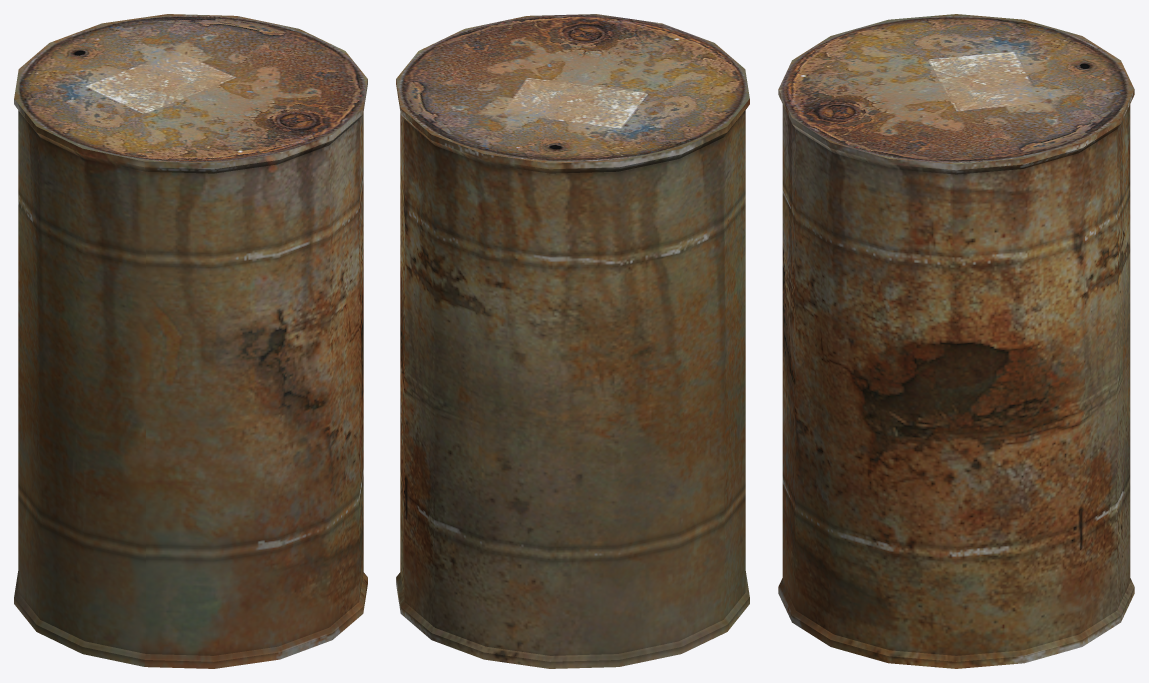
The model's file is Barrel.FBX.
The picture shows the model from 3 angles, left to right: view 1: azimuth 30°, elevation 25°; view 2: azimuth 150°, elevation 25°; view 3: azimuth 270°, elevation 25°; orthographic projection.
Visible parts, largest first — view 1: barrel; view 2: barrel; view 3: barrel.
Boxes of the visible parts, x1,y1,x2,y2 form: barrel: [14, 14, 367, 668]; barrel: [396, 14, 749, 668]; barrel: [778, 14, 1134, 668].
Size of the model in its own units: 1 by 1.56 by 1.
